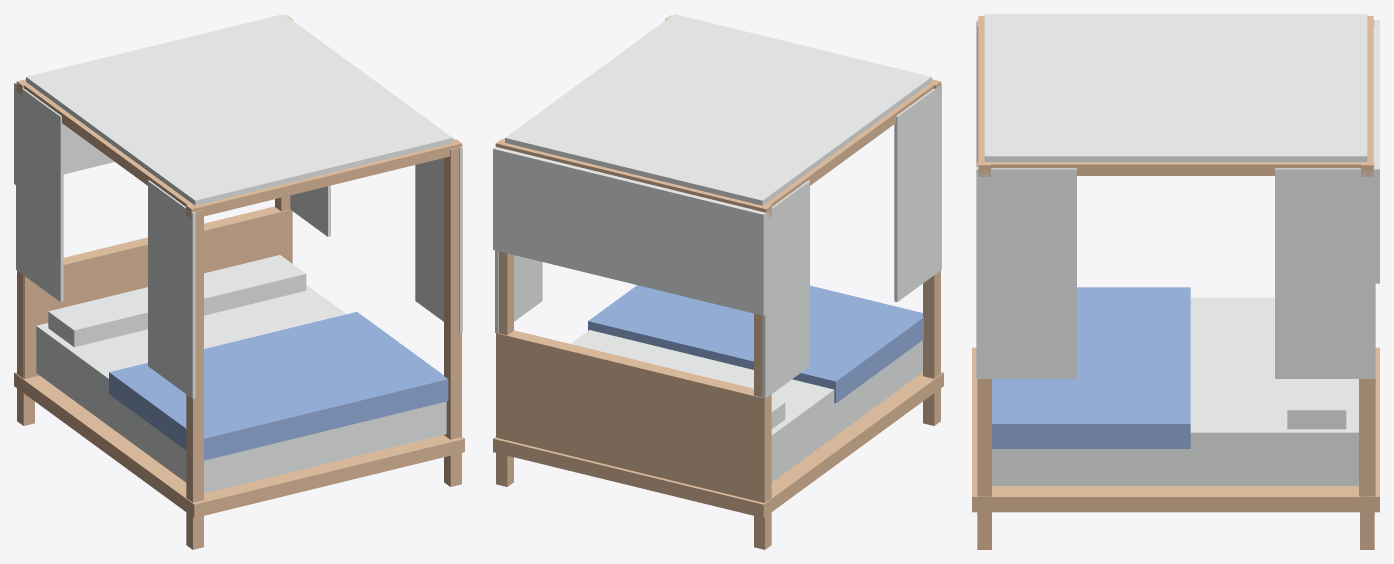
The model's file is bedCanopy.glb.
3 renders of one model, left to right at view 1: azimuth 30°, elevation 25°; view 2: azimuth 150°, elevation 25°; view 3: azimuth 270°, elevation 25°, orthographic. The views are drawn at different scales.
Parts seen in each view (by area): view 1: bedCanopy; view 2: bedCanopy; view 3: bedCanopy.
Boxes of the visible parts, box(x1,y1,x2,y2) form: bedCanopy: box(14, 14, 464, 549); bedCanopy: box(493, 14, 943, 549); bedCanopy: box(972, 14, 1379, 549).
Size of the model in its own units: 0.84 by 1.02 by 0.97.
